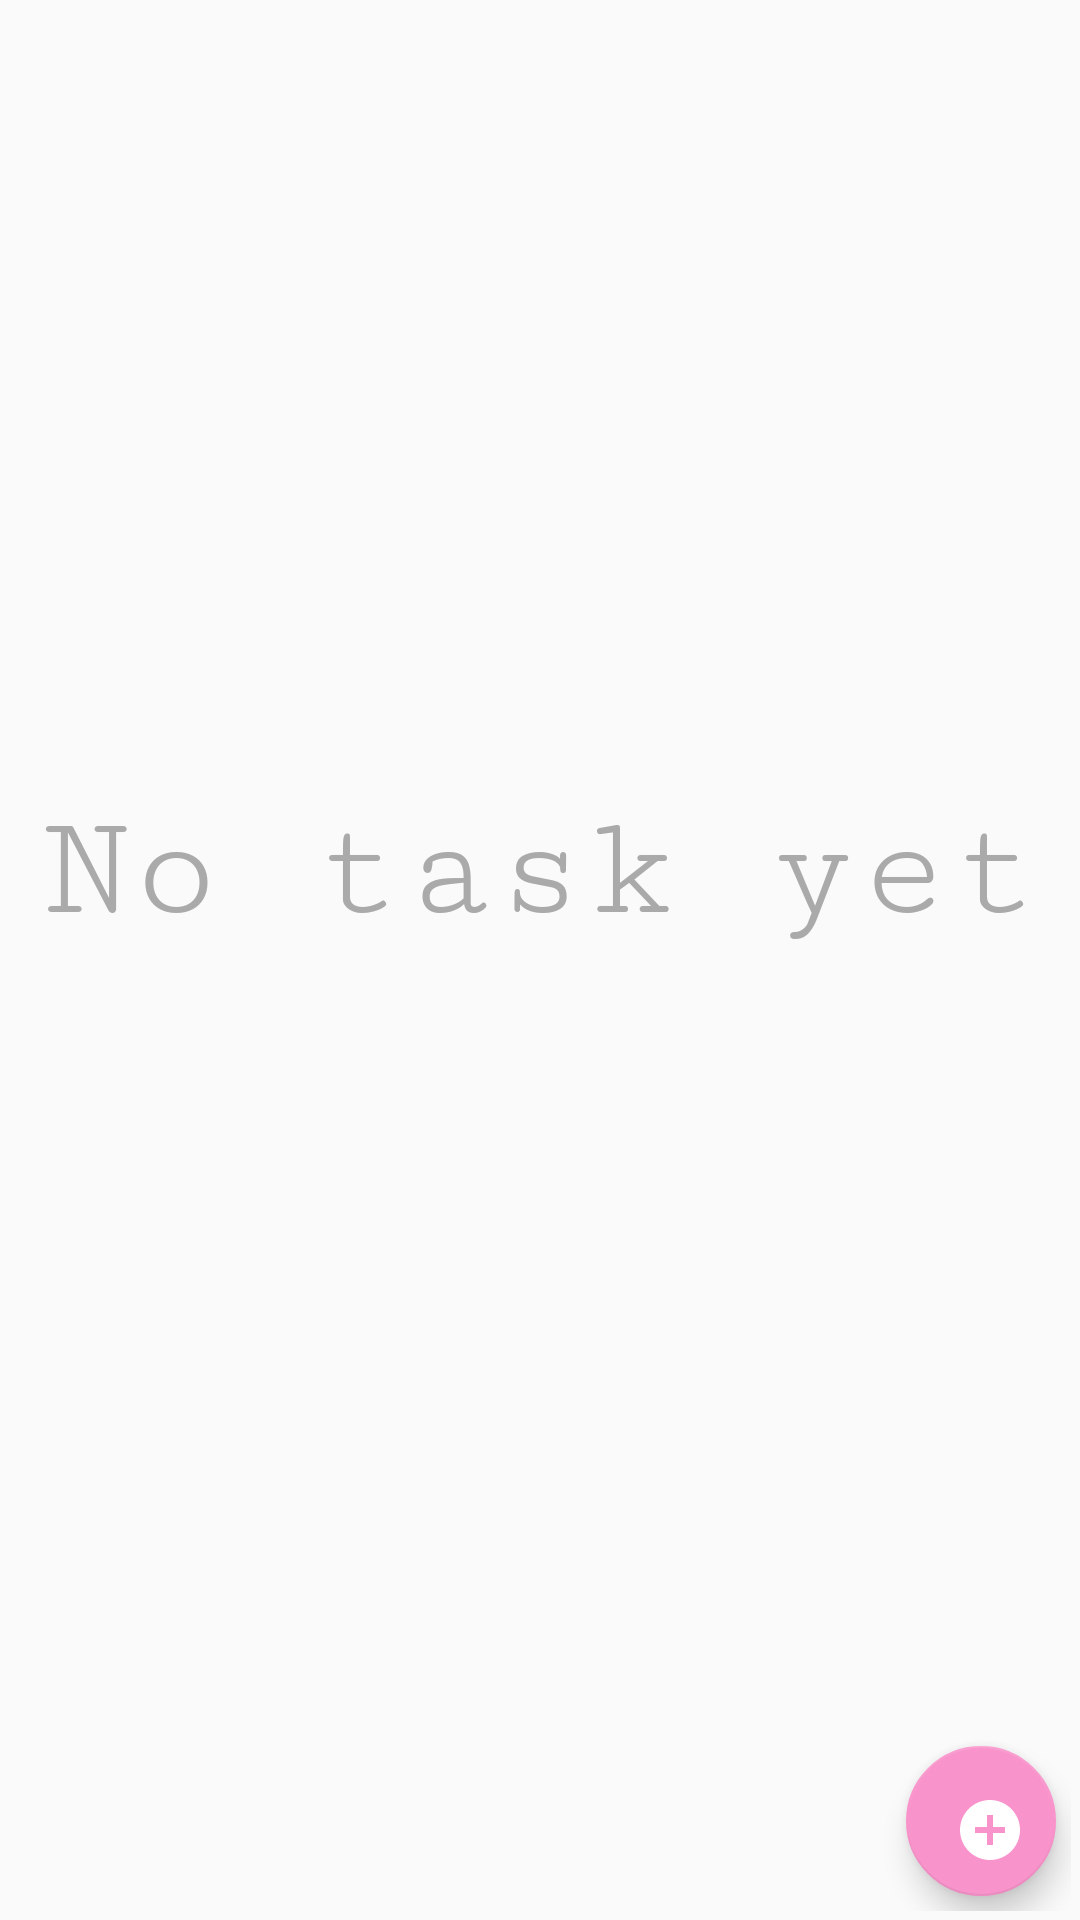

Where icons sit on this 1080w x 1920h app screen, as box(x1, y1, x2, y2):
add circle: box(906, 1746, 1056, 1896)
